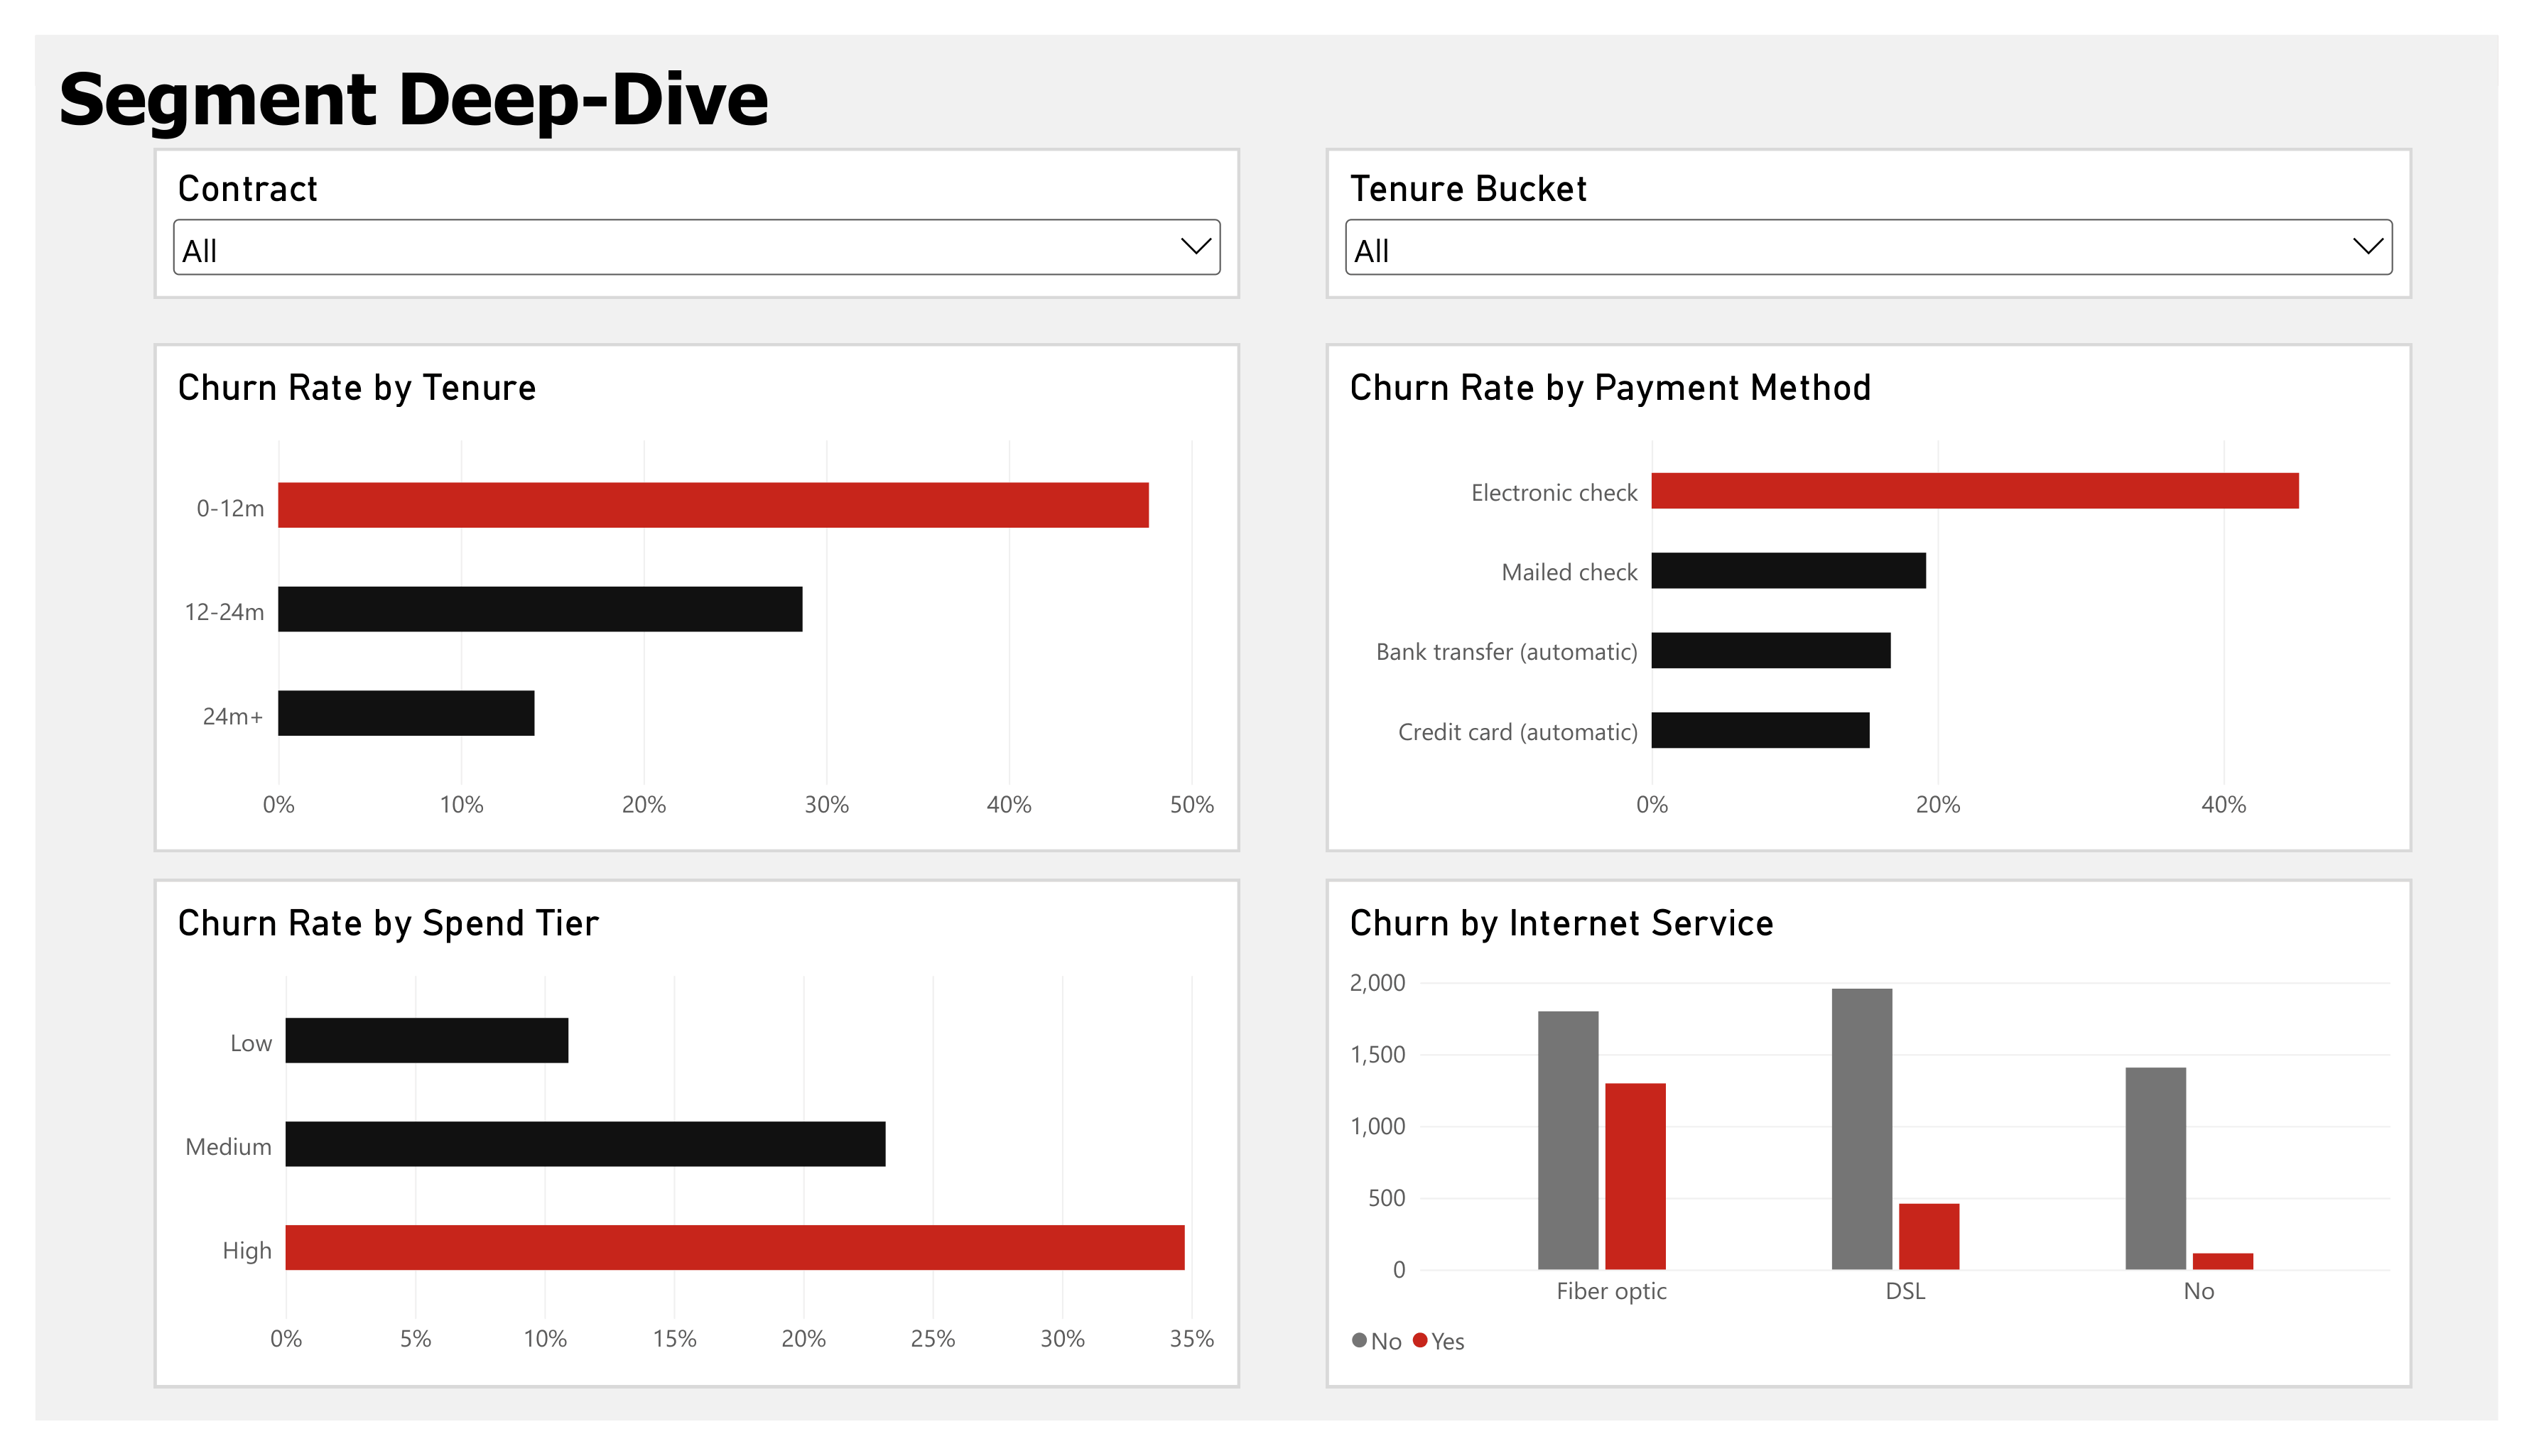

The page's visual inventory and layout, read from the dashboard file:
{"tool":"powerbi","page":{"name":"Segment Deep-Dive","canvas":[1664,936],"ordinal":1},"visuals":[{"type":"shape","box":[80,570,734,344],"z":0},{"type":"shape","box":[872,570,734,344],"z":1000},{"type":"shape","box":[80,208,734,344],"z":2000},{"type":"shape","box":[872,208,734,344],"z":3000},{"type":"shape","box":[80,76,734,102],"z":4000},{"type":"shape","box":[872,76,734,102],"z":5000},{"type":"slicer","title":"Contract ","fields":{"Values":["telco_with_predictions.Contract"]},"box":[88,88,718,78],"z":6000},{"type":"slicer","fields":{"Values":["telco_with_predictions.tenure_bucket"]},"box":[880,88,718,78],"z":7000},{"type":"barChart","title":"Churn Rate by Tenure","fields":{"Category":["telco_with_predictions.tenure_bucket"],"Y":["Avg(telco_with_predictions.churn_value)"]},"box":[80,208.3,733.3,343.3],"z":8000},{"type":"barChart","title":"Churn Rate by Payment Method","fields":{"Category":["telco_with_predictions.PaymentMethod"],"Y":["Avg(telco_with_predictions.churn_value)"]},"box":[871.7,208.3,735,343.3],"z":9000},{"type":"clusteredColumnChart","title":"Churn by Internet Service","fields":{"Category":["telco_with_predictions.InternetService"],"Series":["telco_with_predictions.Churn"],"Y":["CountNonNull(telco_with_predictions.customerID)"]},"box":[871.7,570,735,343.3],"z":10000},{"type":"barChart","title":"Churn Rate by Spend Tier","fields":{"Category":["telco_with_predictions.spend_tier"],"Y":["Avg(telco_with_predictions.churn_value)"]},"box":[80,570,733.3,343.3],"z":11000},{"type":"textbox","box":[16,12,522,62],"z":12000}]}

Visuals, with their boxes on the page's 1664x936 design canvas (x1, y1, x2, y2). These are canvas units, not pixel positions in the 2534x1456 screenshot, which may show the page scaled, cropped or inside an application window:
shape: x1=80, y1=570, x2=814, y2=914
shape: x1=872, y1=570, x2=1606, y2=914
shape: x1=80, y1=208, x2=814, y2=552
shape: x1=872, y1=208, x2=1606, y2=552
shape: x1=80, y1=76, x2=814, y2=178
shape: x1=872, y1=76, x2=1606, y2=178
"Contract " slicer: x1=88, y1=88, x2=806, y2=166
slicer - telco_with_predictions.tenure_bucket: x1=880, y1=88, x2=1598, y2=166
"Churn Rate by Tenure" barChart: x1=80, y1=208, x2=813, y2=552
"Churn Rate by Payment Method" barChart: x1=872, y1=208, x2=1607, y2=552
"Churn by Internet Service" clusteredColumnChart: x1=872, y1=570, x2=1607, y2=913
"Churn Rate by Spend Tier" barChart: x1=80, y1=570, x2=813, y2=913
textbox: x1=16, y1=12, x2=538, y2=74
